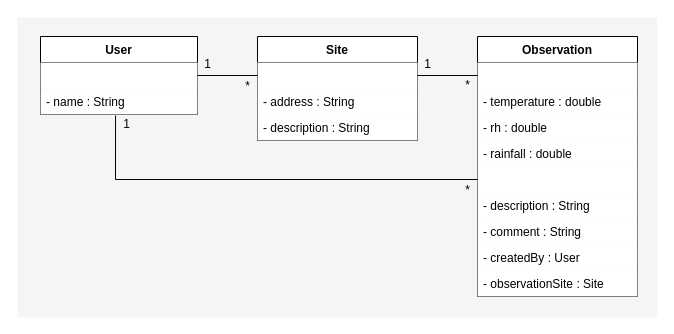
The diagram is 674 pixels wide and 334 high, and some of its shapes have lost their labels. Each missing label, with the box of its shape:
- pressure : double: (477, 166, 637, 192)
- sitename : String: (257, 62, 417, 88)
- timestamp : Timestamp: (477, 62, 637, 88)
- username : String: (40, 62, 197, 88)
